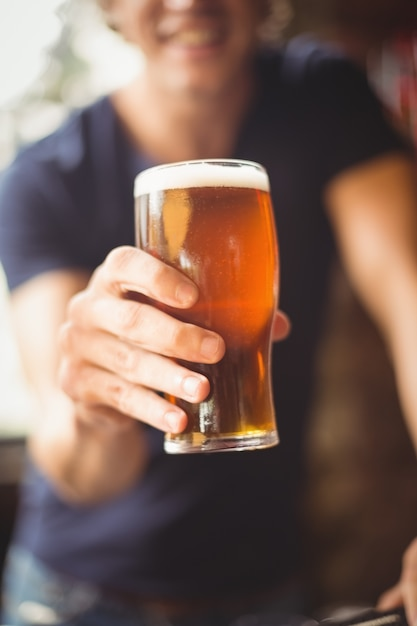alcohol: (123, 155, 288, 453)
